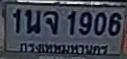0: (94, 11, 106, 35)
1: (67, 10, 75, 34), (12, 8, 20, 32)
6: (108, 12, 122, 36)
9: (78, 11, 91, 34)
A08: (44, 10, 58, 33)
A25: (25, 9, 40, 33)
